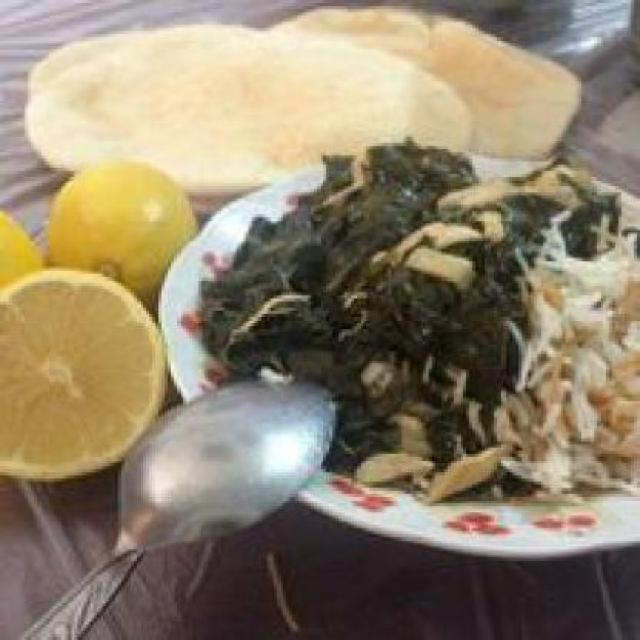fried rice: (521, 196, 637, 507)
molokhia: (227, 140, 513, 497)
